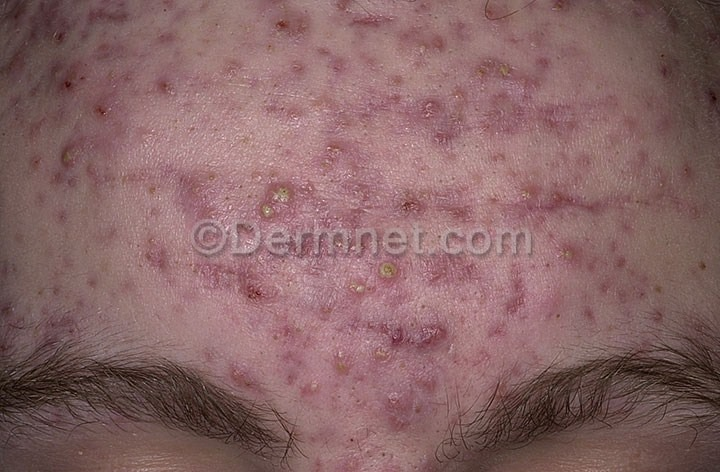Acne: (14, 3, 710, 423)
